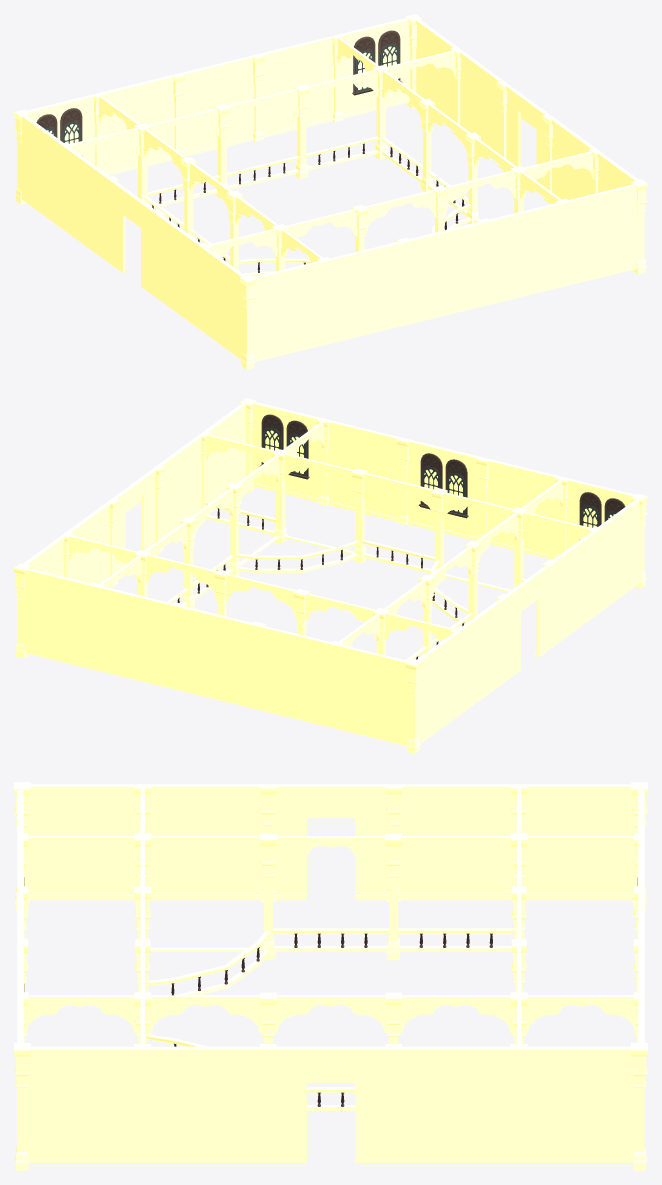
The model's file is Homeworld_Interior_Md_Room_Q_Wall_01_Vo.fbx.
3 renders of one model, top to bottom at view 1: azimuth 30°, elevation 25°; view 2: azimuth 150°, elevation 25°; view 3: azimuth 270°, elevation 25°, orthographic. The views are drawn at different scales.
Parts seen in each view (by area): view 1: Homeworld_Interior_Md_Room_Wall_01_Vo (×13), Homeworld_Interior_Md_Room_Wall_02_Vo (×5), Homeworld_Interior_Md_Room_Wall_05_Vo (×10), Homeworld_Interior_Md_Room_Q_Filling_01_Vo, Homeworld_Interior_Md_Room_Pillar_01_Vo (×10), Homeworld_Interior_Md_Room_Wall_06_Vo (×2), Homeworld_Interior_Md_Room_Wall_04_Vo (×7), Homeworld_Interior_Md_Room_Pillar_02_Vo (×7), Homeworld_Interior_Md_Room_Wall_05_01_Vo (×2); view 2: Homeworld_Interior_Md_Room_Wall_01_Vo (×13), Homeworld_Interior_Md_Room_Wall_02_Vo (×5), Homeworld_Interior_Md_Room_Wall_05_Vo (×9), Homeworld_Interior_Md_Room_Q_Filling_01_Vo, Homeworld_Interior_Md_Room_Pillar_01_Vo (×10), Homeworld_Interior_Md_Room_Wall_05_01_Vo (×2), Homeworld_Interior_Md_Room_Wall_06_Vo (×2), Homeworld_Interior_Md_Room_Wall_04_Vo (×7), Homeworld_Interior_Md_Room_Pillar_02_Vo (×7); view 3: Homeworld_Interior_Md_Room_Wall_01_Vo (×8), Homeworld_Interior_Md_Room_Wall_06_Vo (×2), Homeworld_Interior_Md_Room_Wall_05_Vo (×4), Homeworld_Interior_Md_Room_Q_Filling_01_Vo, Homeworld_Interior_Md_Room_Pillar_01_Vo (×13), Homeworld_Interior_Md_Room_Wall_04_Vo (×4), Homeworld_Interior_Md_Room_Wall_05_01_Vo (×2), Homeworld_Interior_Md_Room_Pillar_02_Vo (×2).
Boxes of the visible parts, x1,y1,x2,y2 form: Homeworld_Interior_Md_Room_Wall_01_Vo (×13): (17,19,638,359); Homeworld_Interior_Md_Room_Wall_02_Vo (×5): (26,18,644,361); Homeworld_Interior_Md_Room_Wall_05_Vo (×10): (143,69,593,261); Homeworld_Interior_Md_Room_Q_Filling_01_Vo: (48,46,636,360); Homeworld_Interior_Md_Room_Pillar_01_Vo (×10): (134,14,480,369); Homeworld_Interior_Md_Room_Wall_06_Vo (×2): (109,83,552,296); Homeworld_Interior_Md_Room_Wall_04_Vo (×7): (70,38,561,262); Homeworld_Interior_Md_Room_Pillar_02_Vo (×7): (92,34,553,202); Homeworld_Interior_Md_Room_Wall_05_01_Vo (×2): (235,138,516,276); Homeworld_Interior_Md_Room_Wall_01_Vo (×13): (17,403,644,743); Homeworld_Interior_Md_Room_Wall_02_Vo (×5): (17,402,635,745); Homeworld_Interior_Md_Room_Wall_05_Vo (×9): (145,434,473,660); Homeworld_Interior_Md_Room_Q_Filling_01_Vo: (17,430,613,745); Homeworld_Interior_Md_Room_Pillar_01_Vo (×10): (181,398,527,753); Homeworld_Interior_Md_Room_Wall_05_01_Vo (×2): (236,453,518,624); Homeworld_Interior_Md_Room_Wall_06_Vo (×2): (109,467,552,680); Homeworld_Interior_Md_Room_Wall_04_Vo (×7): (68,422,591,646); Homeworld_Interior_Md_Room_Pillar_02_Vo (×7): (108,418,569,586); Homeworld_Interior_Md_Room_Wall_01_Vo (×8): (17,784,644,1162); Homeworld_Interior_Md_Room_Wall_06_Vo (×2): (268,784,393,1162); Homeworld_Interior_Md_Room_Wall_05_Vo (×4): (273,836,514,1110); Homeworld_Interior_Md_Room_Q_Filling_01_Vo: (135,809,393,1162); Homeworld_Interior_Md_Room_Pillar_01_Vo (×13): (14,782,647,1170); Homeworld_Interior_Md_Room_Wall_04_Vo (×4): (25,836,636,1033); Homeworld_Interior_Md_Room_Wall_05_01_Vo (×2): (140,836,271,1046); Homeworld_Interior_Md_Room_Pillar_02_Vo (×2): (260,785,401,902).
Size of what is drawn, in the model's own units: 25.27 by 5.34 by 25.27.
